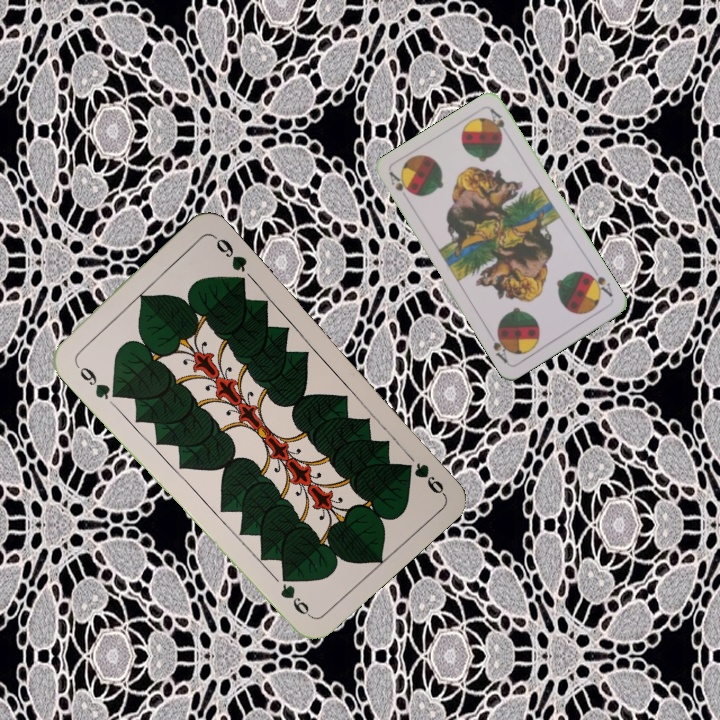G9: (71, 357, 121, 403), (400, 459, 447, 497)
SA: (583, 264, 616, 300), (385, 168, 414, 205)
